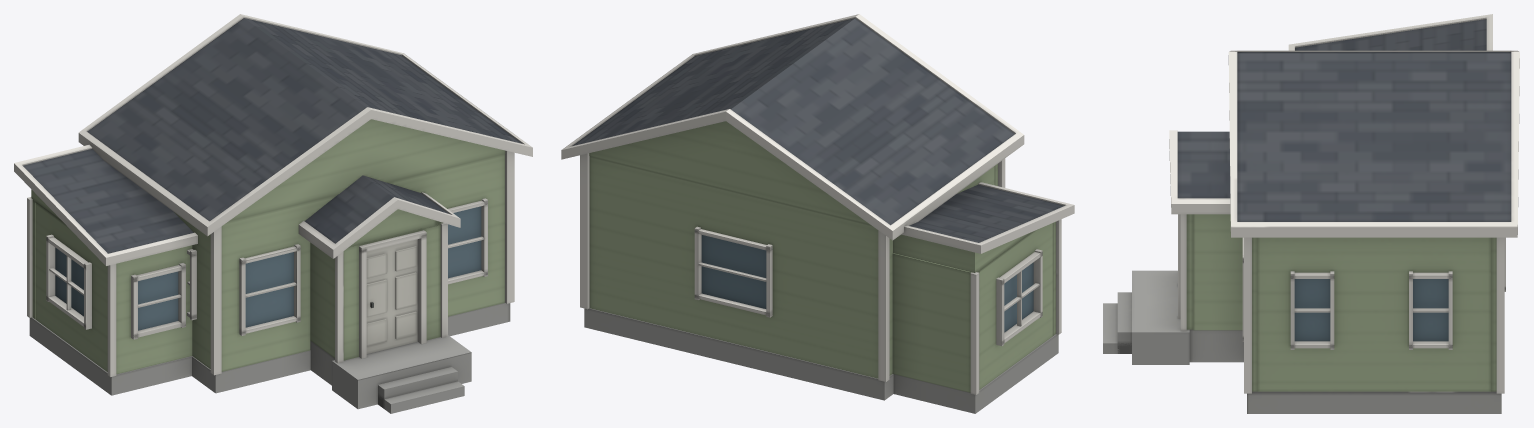
Rendered from House_08_Vestibule_LeanTo.fbx.
3 views of the same model, side by side, from view 1: azimuth 30°, elevation 25°; view 2: azimuth 150°, elevation 25°; view 3: azimuth 270°, elevation 25° (orthographic). The views are drawn at different scales.
Visible parts, largest first — view 1: House_08_Vestibule_LeanTo; view 2: House_08_Vestibule_LeanTo; view 3: House_08_Vestibule_LeanTo.
Part boxes in pixels (x1,y1,x2,y2): House_08_Vestibule_LeanTo: [14, 14, 532, 413]; House_08_Vestibule_LeanTo: [561, 14, 1074, 413]; House_08_Vestibule_LeanTo: [1103, 14, 1519, 413].
Bounding box in the file's own units: 8.56 × 5.18 × 6.93.
Materials: 1 (1 with a texture image).
